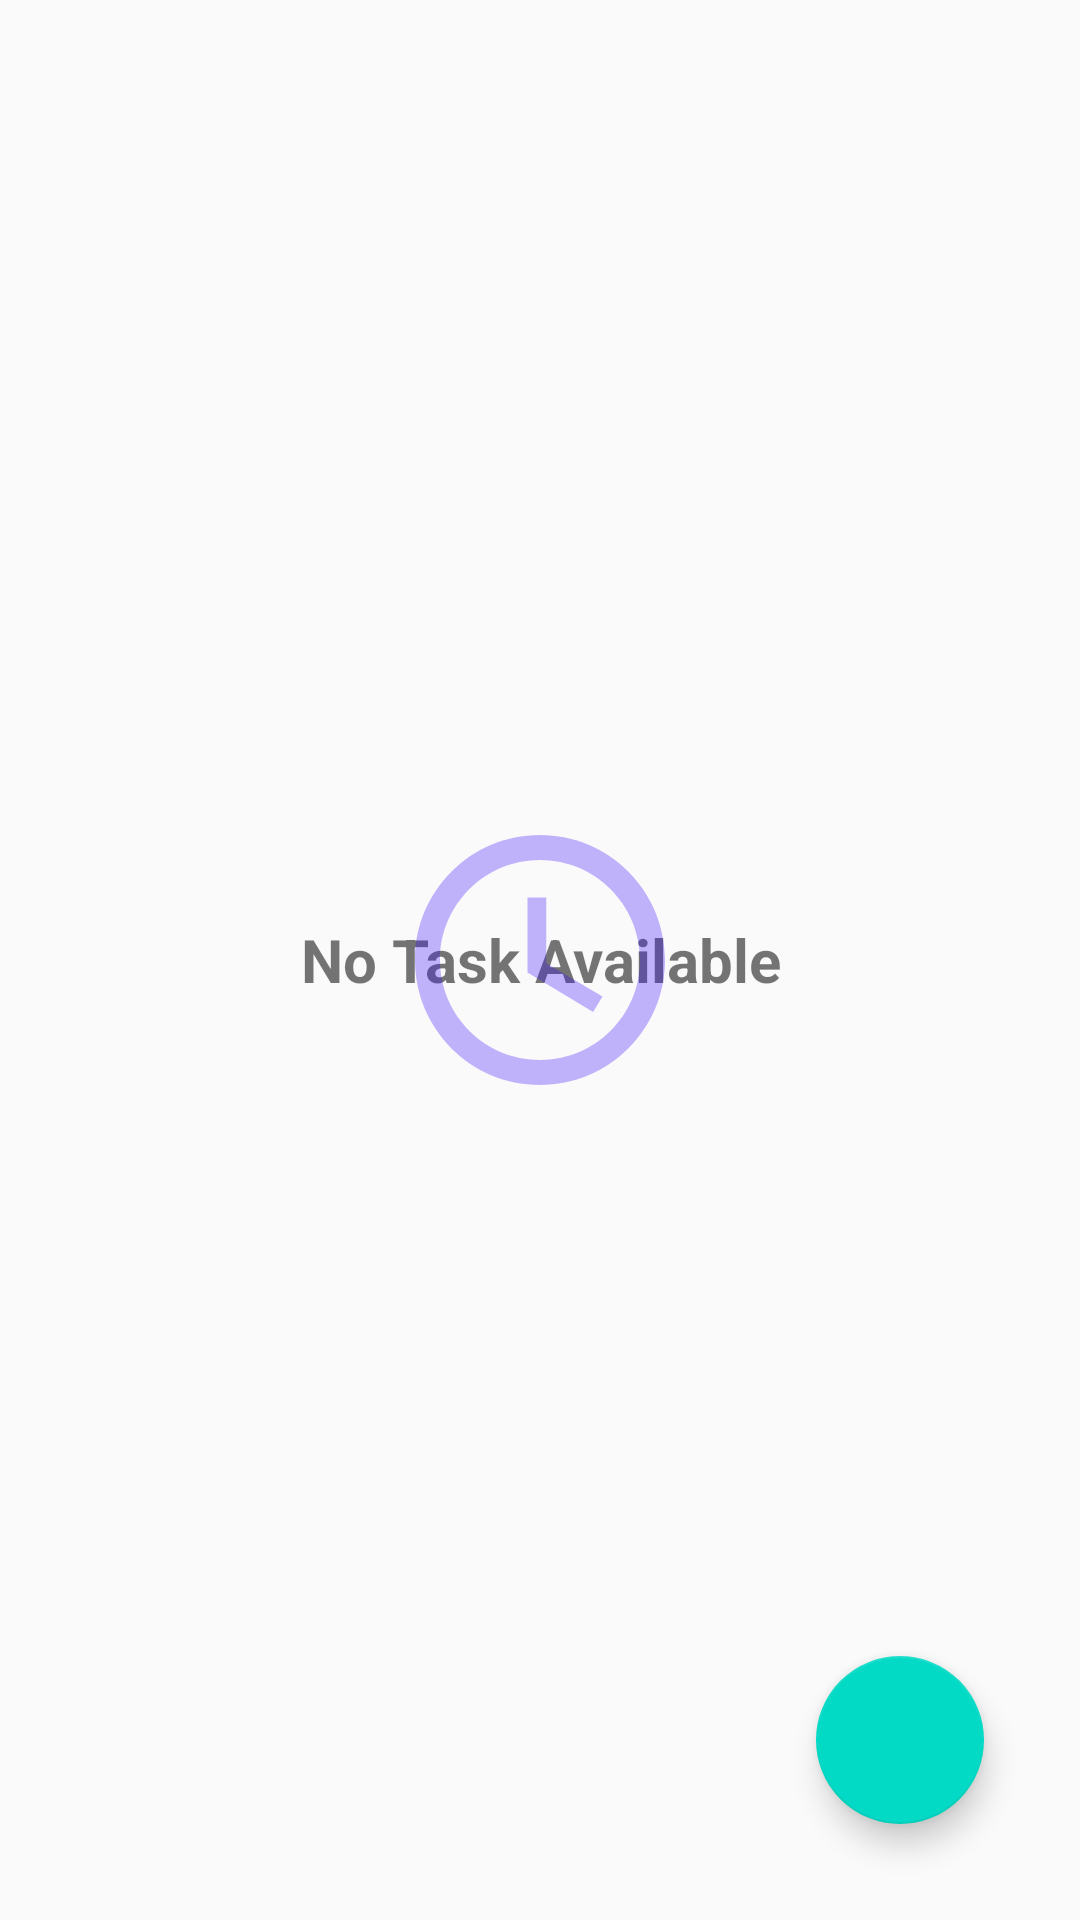

Icon bounding boxes for this 1080px×1920px phone screenshot, format (x1, y1, x2, y2):
schedule: (393, 835, 665, 1085)
